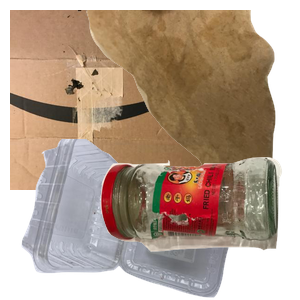cardboard: (10, 10, 245, 190)
glass: (98, 155, 300, 300)
plastic: (19, 139, 249, 300)
trash: (84, 10, 300, 190)
